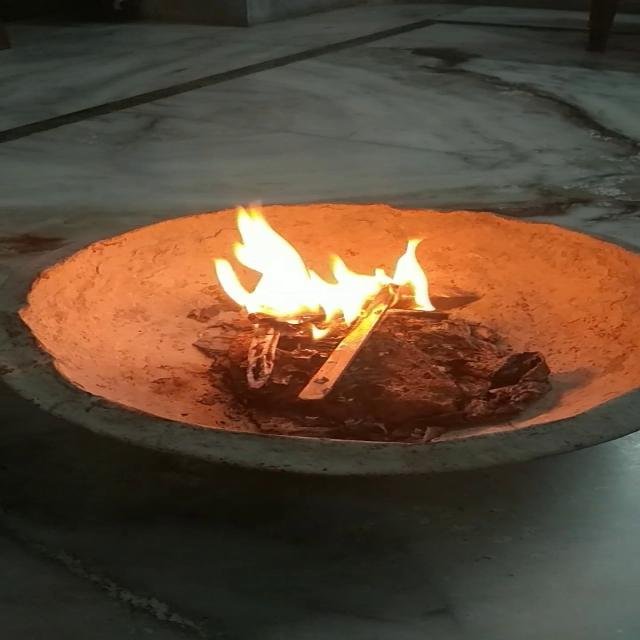fire: (188, 204, 434, 321)
